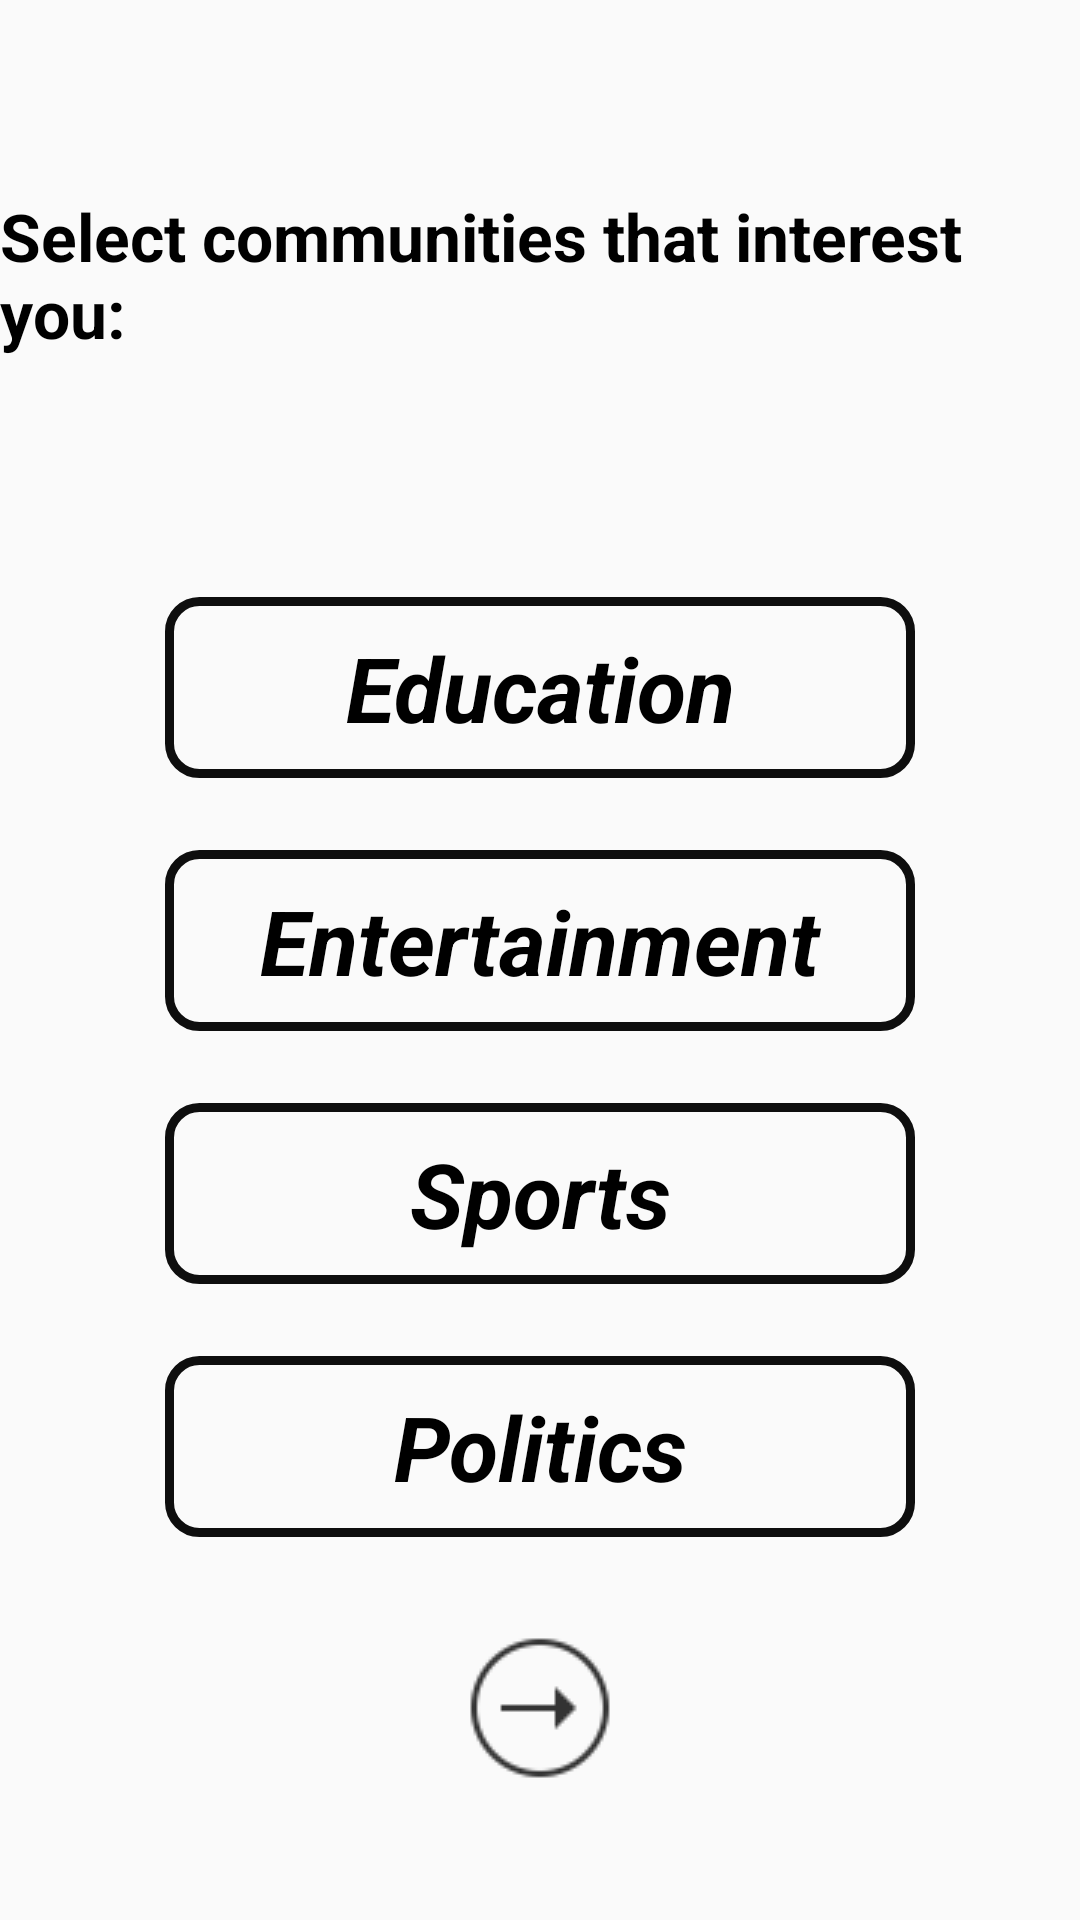

Icon click points for this 1080×1920 phone screenshot, format point (x, y):
right arrow for cs: point (540, 1708)
